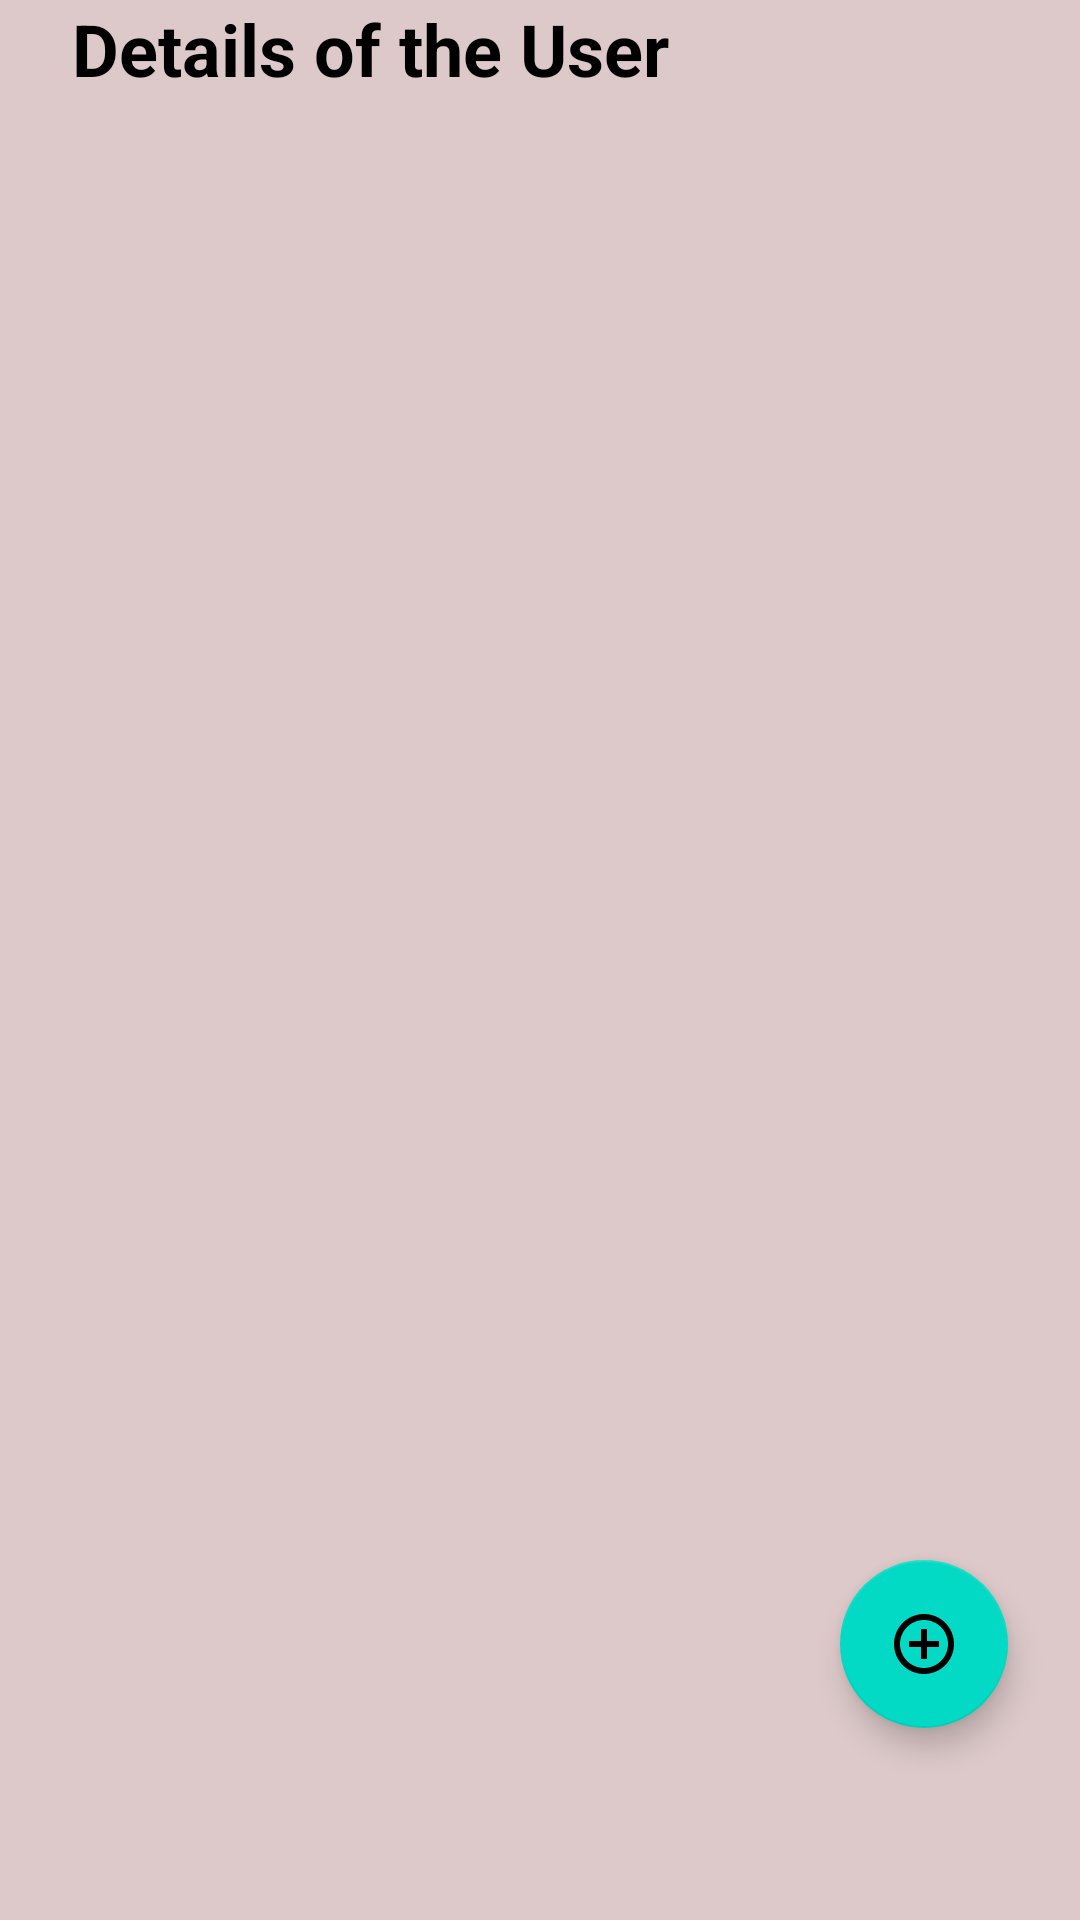

Icons on this 1080 x 1920 Android screen, each with its box as (x1, y1, x2, y2):
add: (840, 1560, 1008, 1728)
